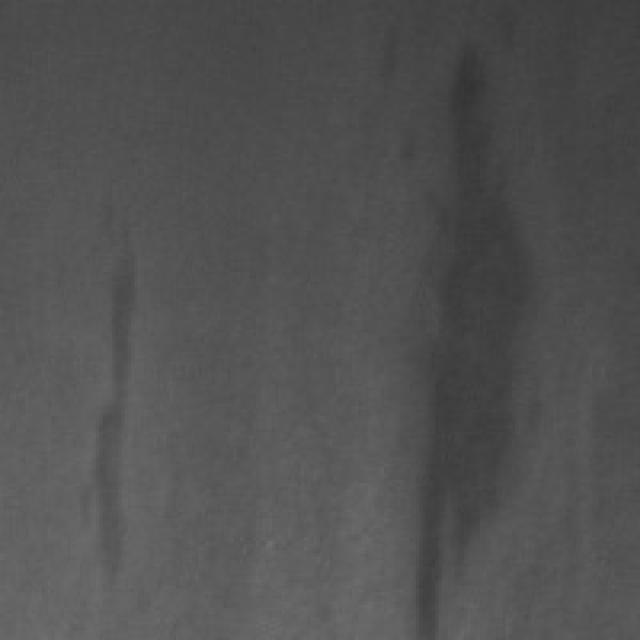inclusion: (403, 32, 541, 630), (61, 202, 141, 586)
